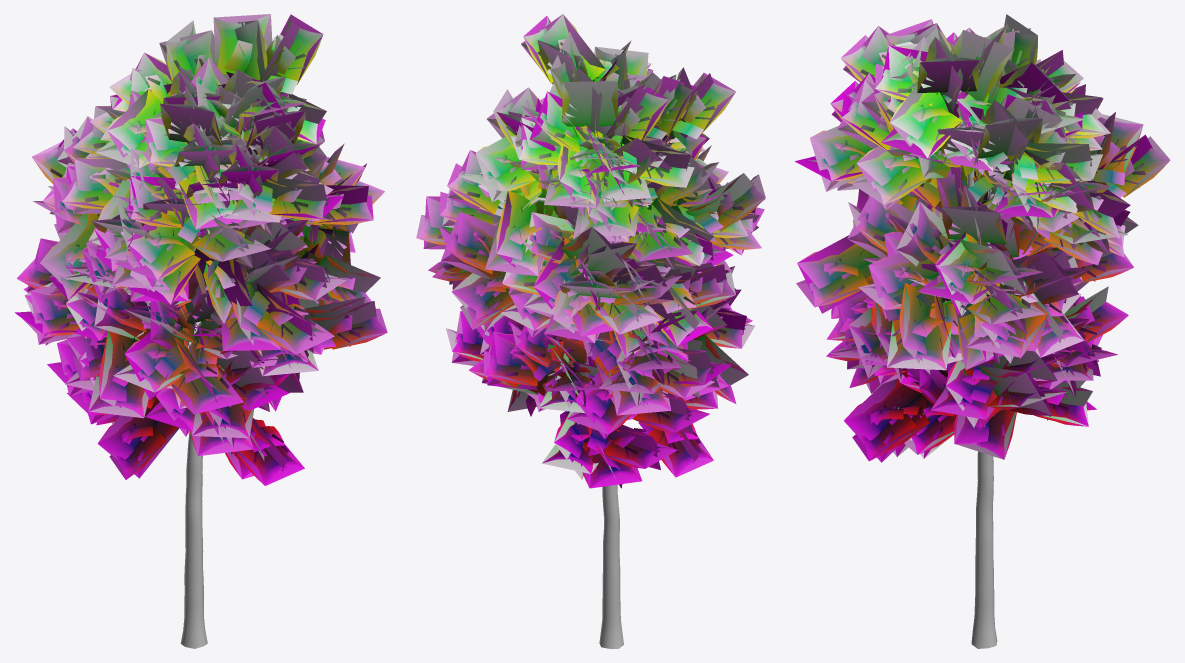
Rendered from pine_03_1.FBX.
3 renders of one model, left to right at view 1: azimuth 30°, elevation 25°; view 2: azimuth 150°, elevation 25°; view 3: azimuth 270°, elevation 25°, orthographic. The views are drawn at different scales.
Visible parts, largest first — view 1: pine_leaves_03_1_lod_0, pine_leaves_03_1_shadow, pine_tree_03_1_lod_0; view 2: pine_leaves_03_1_lod_0, pine_leaves_03_1_shadow, pine_tree_03_1_lod_0; view 3: pine_leaves_03_1_lod_0, pine_leaves_03_1_shadow, pine_tree_03_1_lod_0.
Boxes of the visible parts, left/top/right/bottom form: pine_leaves_03_1_lod_0: left=17, top=14, right=387, bottom=485; pine_leaves_03_1_shadow: left=15, top=14, right=387, bottom=485; pine_tree_03_1_lod_0: left=135, top=228, right=209, bottom=648; pine_leaves_03_1_lod_0: left=416, top=14, right=765, bottom=488; pine_leaves_03_1_shadow: left=416, top=14, right=765, bottom=488; pine_tree_03_1_lod_0: left=531, top=197, right=648, bottom=648; pine_leaves_03_1_lod_0: left=797, top=19, right=1170, bottom=462; pine_leaves_03_1_shadow: left=795, top=14, right=1169, bottom=462; pine_tree_03_1_lod_0: left=922, top=168, right=997, bottom=648.
Size of what is drawn, in the model's own units: 11.6 by 20.66 by 10.94.
